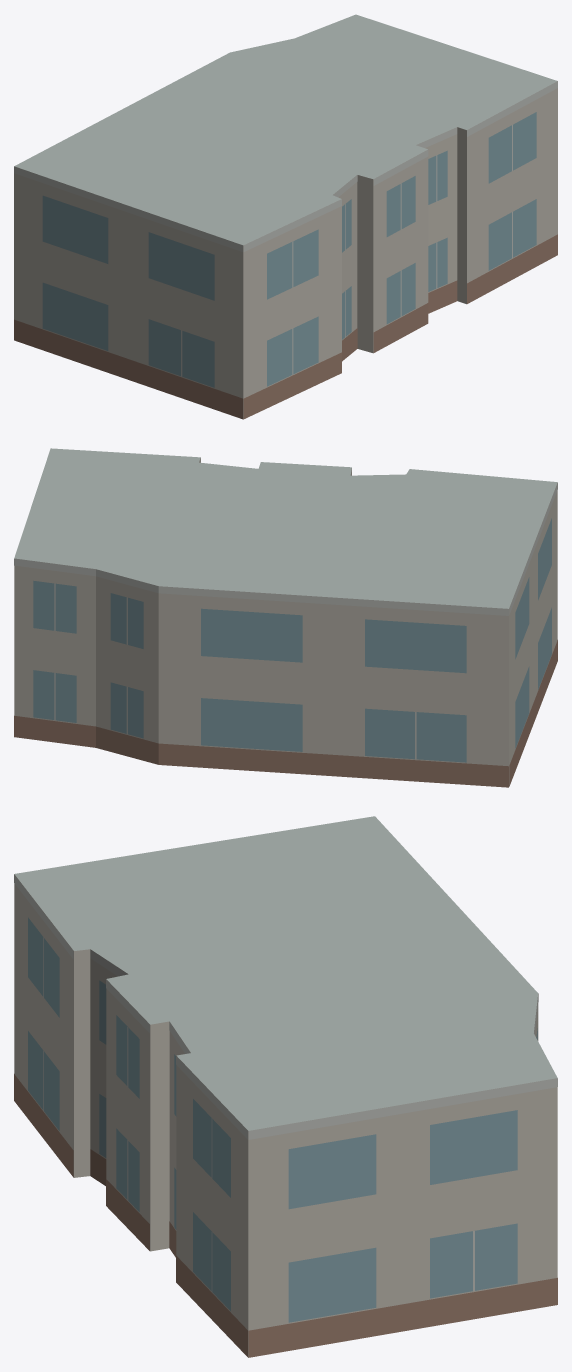
The model's file is survey-upis-32818895.glb.
3 renders of one model, top to bottom at view 1: azimuth 30°, elevation 25°; view 2: azimuth 150°, elevation 25°; view 3: azimuth 270°, elevation 25°, orthographic. The views are drawn at different scales.
Parts seen in each view (by area): view 1: survey-upis-32818895.tmp; view 2: survey-upis-32818895.tmp; view 3: survey-upis-32818895.tmp.
Part boxes in pixels (x1,y1,x2,y2): survey-upis-32818895.tmp: [14, 14, 557, 419]; survey-upis-32818895.tmp: [14, 448, 557, 787]; survey-upis-32818895.tmp: [14, 816, 557, 1357].
Bounding box in the file's own units: 18.17 × 6.1 × 13.26.
